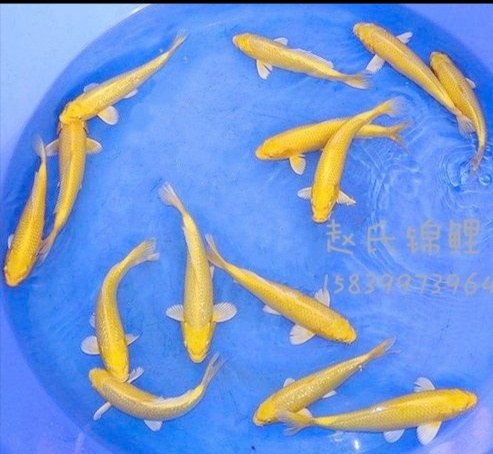fry: (337, 368, 486, 436), (164, 197, 222, 367), (242, 275, 365, 354), (77, 249, 145, 386), (220, 26, 353, 96), (250, 348, 360, 431), (81, 368, 219, 425), (1, 147, 48, 300), (47, 114, 101, 241), (428, 42, 489, 153), (346, 14, 428, 93), (301, 122, 360, 227), (57, 70, 152, 122), (242, 113, 330, 164)
